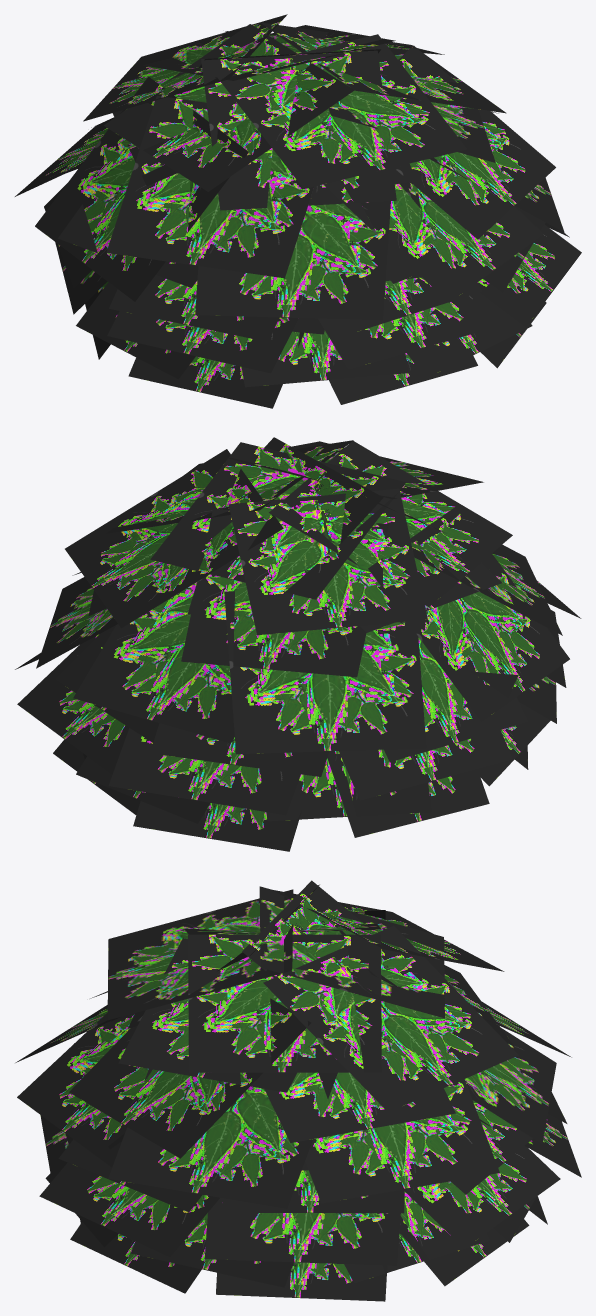
Rendered from Shrub.gltf.
3 renders of one model, top to bottom at view 1: azimuth 30°, elevation 25°; view 2: azimuth 150°, elevation 25°; view 3: azimuth 270°, elevation 25°, orthographic. The views are drawn at different scales.
Parts seen in each view (by area): view 1: Shrub; view 2: Shrub; view 3: Shrub.
Part boxes in pixels (x1,y1,x2,y2): Shrub: (15, 14, 581, 408); Shrub: (15, 437, 581, 851); Shrub: (15, 880, 581, 1301).
Size of the model in its own units: 13.33 by 7.62 by 13.88.
1 material, 1 textured.
